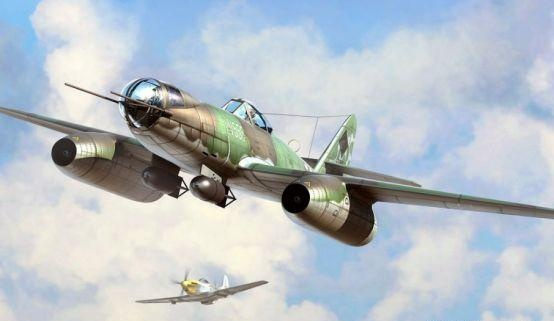airplane: (2, 74, 554, 246), (135, 274, 270, 308)
